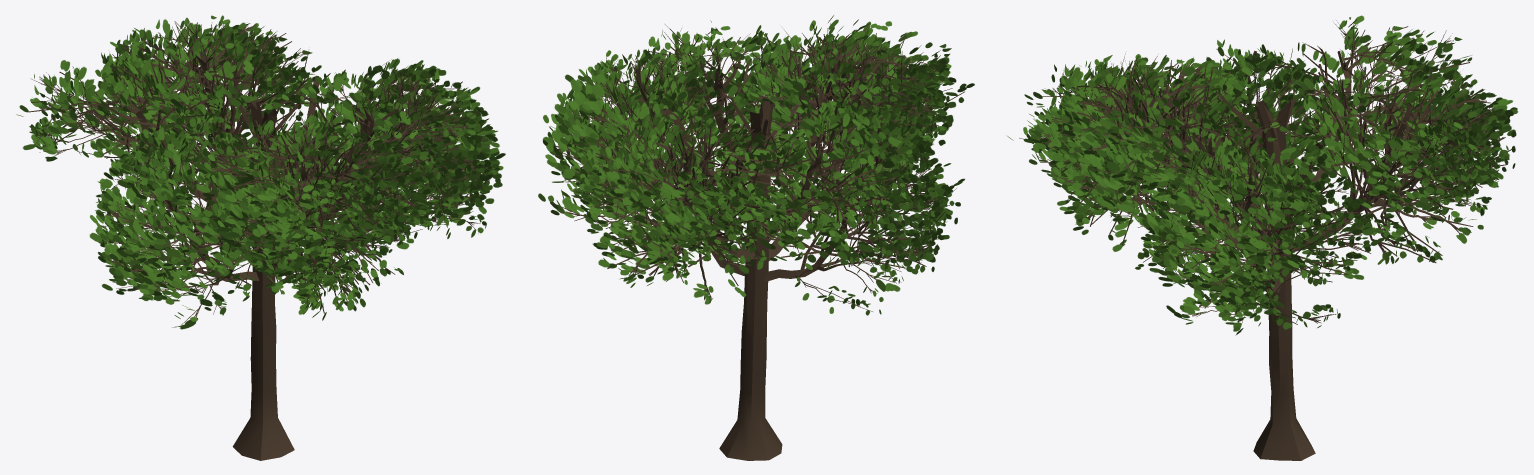
The picture shows the model from 3 angles, left to right: view 1: azimuth 30°, elevation 25°; view 2: azimuth 150°, elevation 25°; view 3: azimuth 270°, elevation 25°; orthographic projection.
Visible parts, largest first — view 1: oak 01.001_trunk_Mat.001_0.032; view 2: oak 01.001_trunk_Mat.001_0.032; view 3: oak 01.001_trunk_Mat.001_0.032.
Boxes of the visible parts, x1,y1,x2,y2 form: oak 01.001_trunk_Mat.001_0.032: (16, 15, 505, 460); oak 01.001_trunk_Mat.001_0.032: (538, 15, 974, 460); oak 01.001_trunk_Mat.001_0.032: (1007, 15, 1518, 460).
Size of the model in its own units: 6.7 by 5.43 by 6.93.
2 materials, 1 textured.
